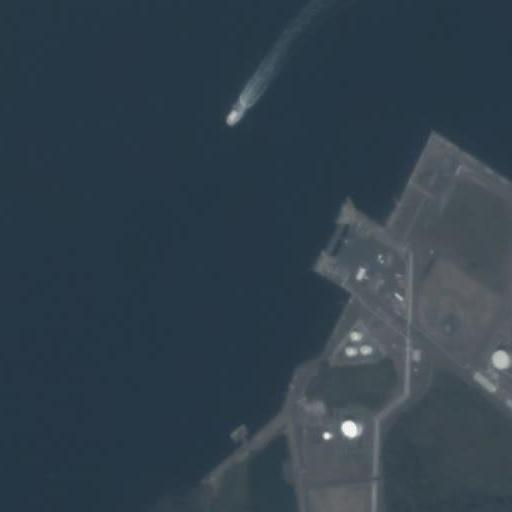person: (226, 108, 242, 127)
